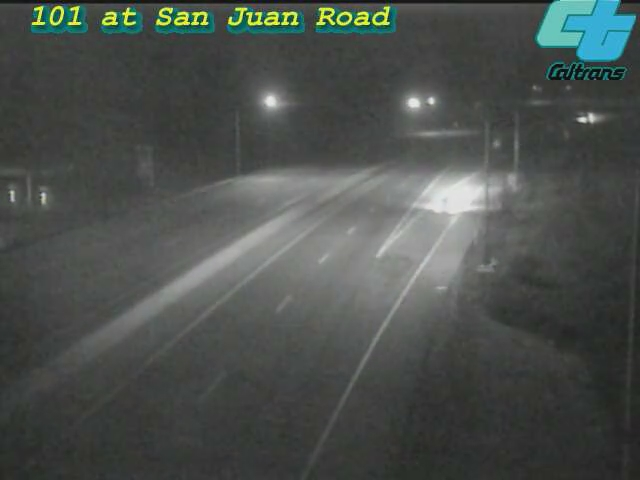vehicle: (413, 160, 493, 240), (562, 93, 612, 143)
